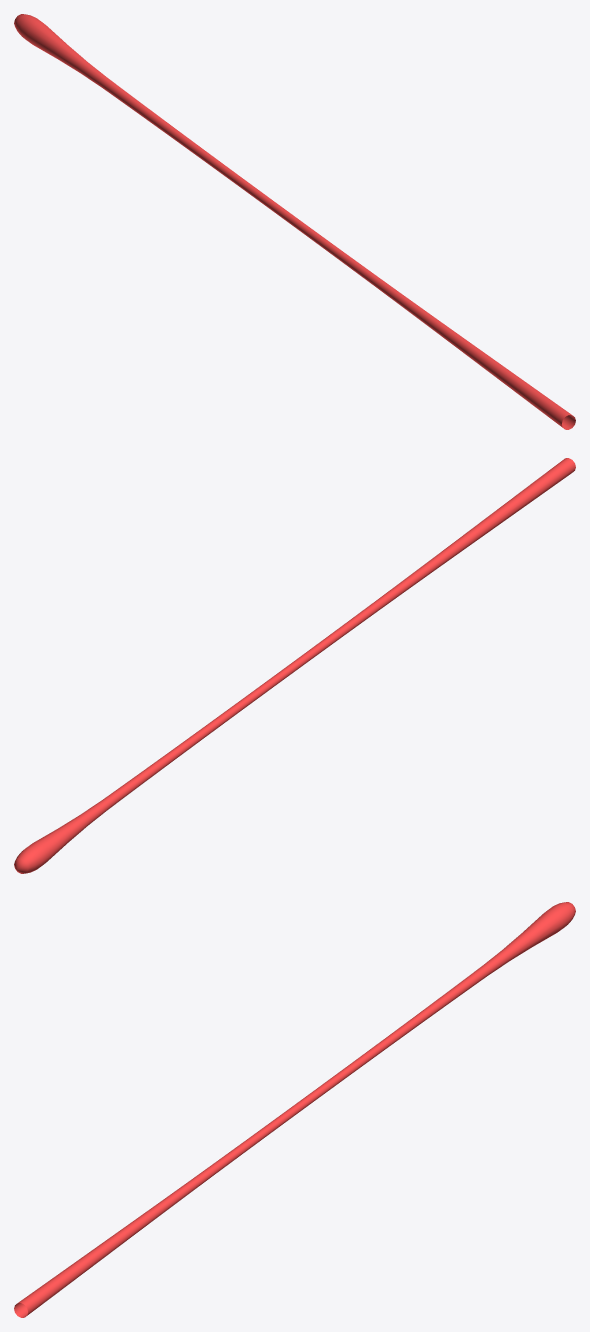
Rendered from PF_Frog_Tonge.glb.
The picture shows the model from 3 angles, top to bottom: view 1: azimuth 30°, elevation 25°; view 2: azimuth 150°, elevation 25°; view 3: azimuth 330°, elevation 25°; orthographic projection.
Visible parts, largest first — view 1: PF_Frog_Tonge; view 2: PF_Frog_Tonge; view 3: PF_Frog_Tonge.
Boxes of the visible parts, box(x1,y1,x2,y2) form: PF_Frog_Tonge: box(14, 14, 575, 429); PF_Frog_Tonge: box(14, 458, 575, 873); PF_Frog_Tonge: box(14, 902, 575, 1317).
Size of the model in its own units: 0.6591 by 0.6591 by 29.64.
1 material, 1 textured.
